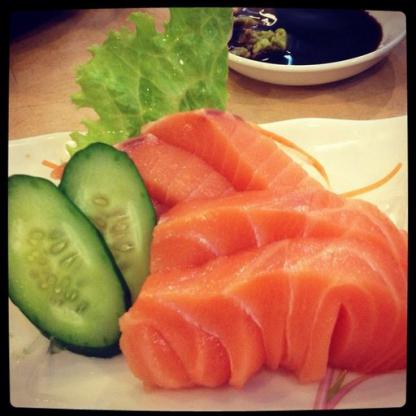cucumber: (0, 173, 136, 354), (65, 147, 153, 295)
salmon: (132, 234, 415, 397), (154, 200, 415, 292), (126, 110, 331, 204)
